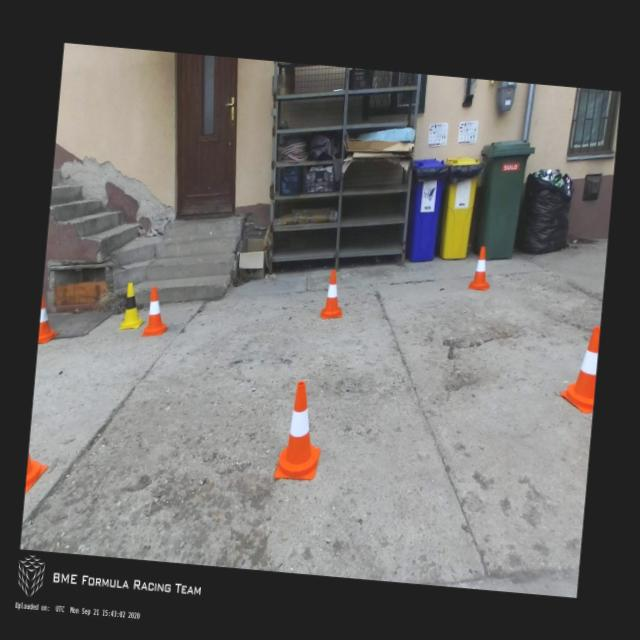orange_cone: (274, 380, 326, 480), (559, 324, 600, 413), (140, 285, 170, 338), (320, 269, 346, 320), (38, 293, 61, 344), (468, 245, 492, 290)
yellow_cone: (119, 282, 148, 332)
